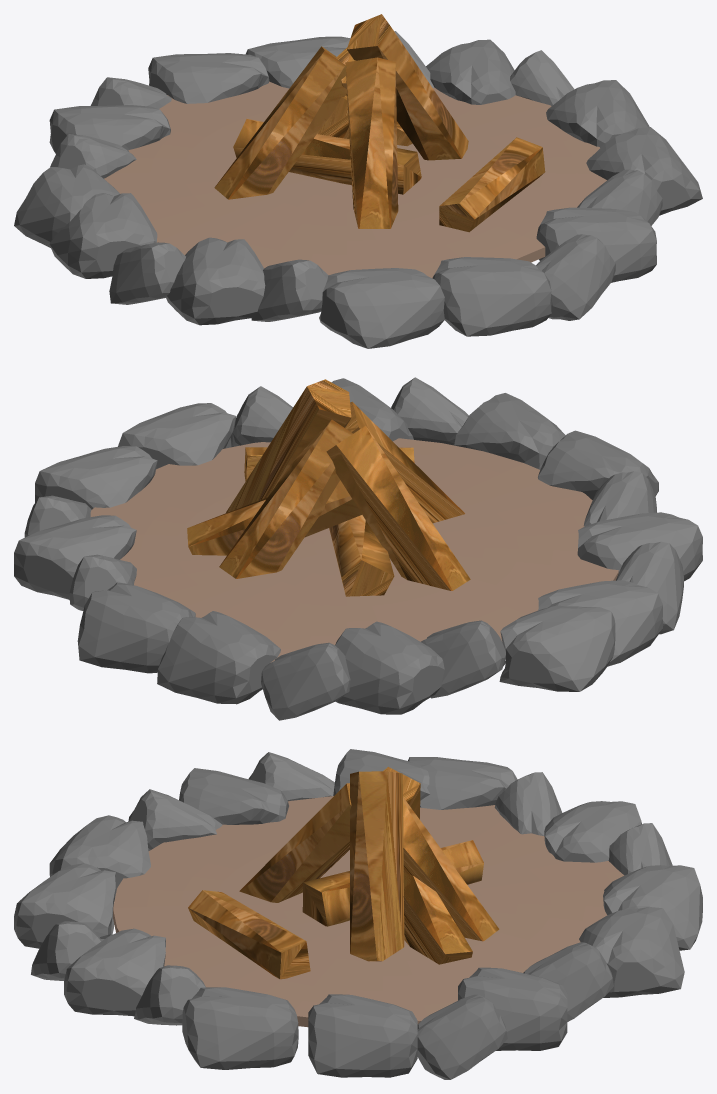
The model's file is ba╠èlplads.fbx.
3 renders of one model, top to bottom at view 1: azimuth 30°, elevation 25°; view 2: azimuth 150°, elevation 25°; view 3: azimuth 270°, elevation 25°, orthographic. The views are drawn at different scales.
Parts seen in each view (by area): view 1: Oil_Tank, Group_007_9, Cylinder_3, Cylinder_2, Group_007_10, Group_007_7, Cylinder, Group_007_5, Group_007_12, Group_007_15, Cylinder_6, Group_007_14 (+14 smaller); view 2: Oil_Tank, Cylinder_3, Group_007_19, Cylinder_1, Group_007_15, Group_007_17, Group_007_4, Group_007_2, Group_007, Cylinder, Group_007_16, Group_007_14 (+16 smaller); view 3: Oil_Tank, Cylinder, Group_007_14, Group_007, Group_007_4, Group_007_12, Group_007_2, Group_007_10, Cylinder_2, Group_007_1, Cylinder_6, Group_007_15 (+16 smaller).
Boxes of the visible parts, x1,y1,x2,y2 form: Oil_Tank: (104,81,606,278); Group_007_9: (319,268,444,348); Cylinder_3: (214,46,346,199); Cylinder_2: (345,57,398,228); Group_007_10: (432,257,551,336); Group_007_7: (166,237,265,325); Cylinder: (347,14,468,160); Group_007_5: (49,193,157,278); Group_007_12: (536,207,656,282); Group_007_15: (148,53,269,103); Cylinder_6: (439,137,545,232); Group_007_14: (586,127,702,215); Oil_Tank: (90,438,618,662); Cylinder_3: (326,425,470,590); Group_007_19: (499,605,615,691); Cylinder_1: (219,419,352,578); Group_007_15: (157,611,280,704); Group_007_17: (335,621,444,714); Group_007_4: (77,582,195,673); Group_007_2: (14,515,136,599); Group_007: (35,446,157,509); Cylinder: (226,379,351,512); Group_007_16: (261,642,350,720); Group_007_14: (118,403,236,469); Oil_Tank: (113,796,624,1027); Cylinder: (350,771,404,961); Group_007_14: (182,987,298,1069); Group_007: (308,994,417,1077); Group_007_4: (579,907,684,997); Group_007_12: (64,928,165,1016); Group_007_2: (458,967,567,1050); Group_007_10: (14,863,115,948); Cylinder_2: (239,783,351,902); Group_007_1: (417,994,507,1079); Cylinder_6: (188,890,310,979); Group_007_15: (603,865,702,950).
Size of the model in its own units: 1856 by 604 by 1868.
Materials: 3 (1 with a texture image).
